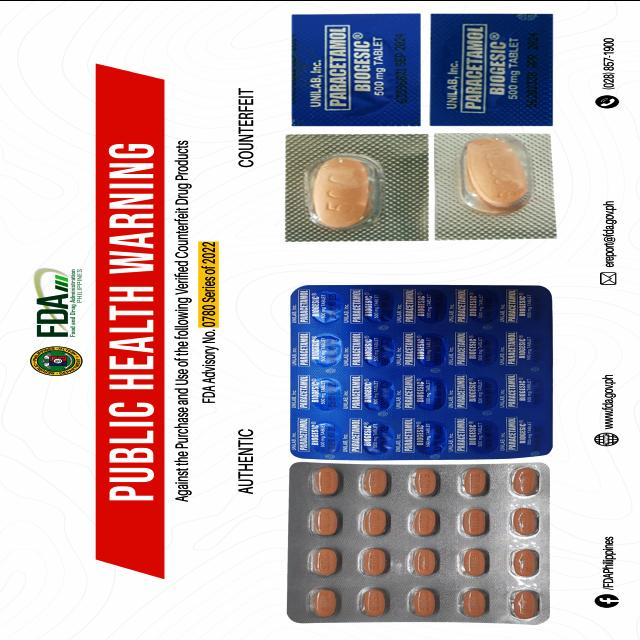authentic: (286, 284, 556, 458), (282, 460, 558, 625)
counterfeit: (286, 11, 554, 126), (282, 131, 560, 239)
